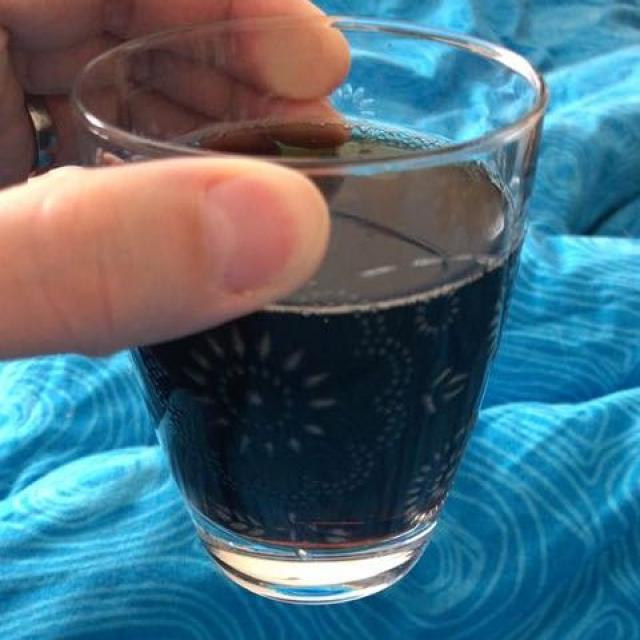coca-cola-zero: (138, 105, 521, 549)
